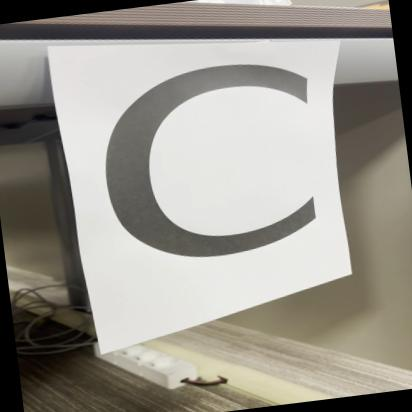seat: (50, 15, 367, 336)
